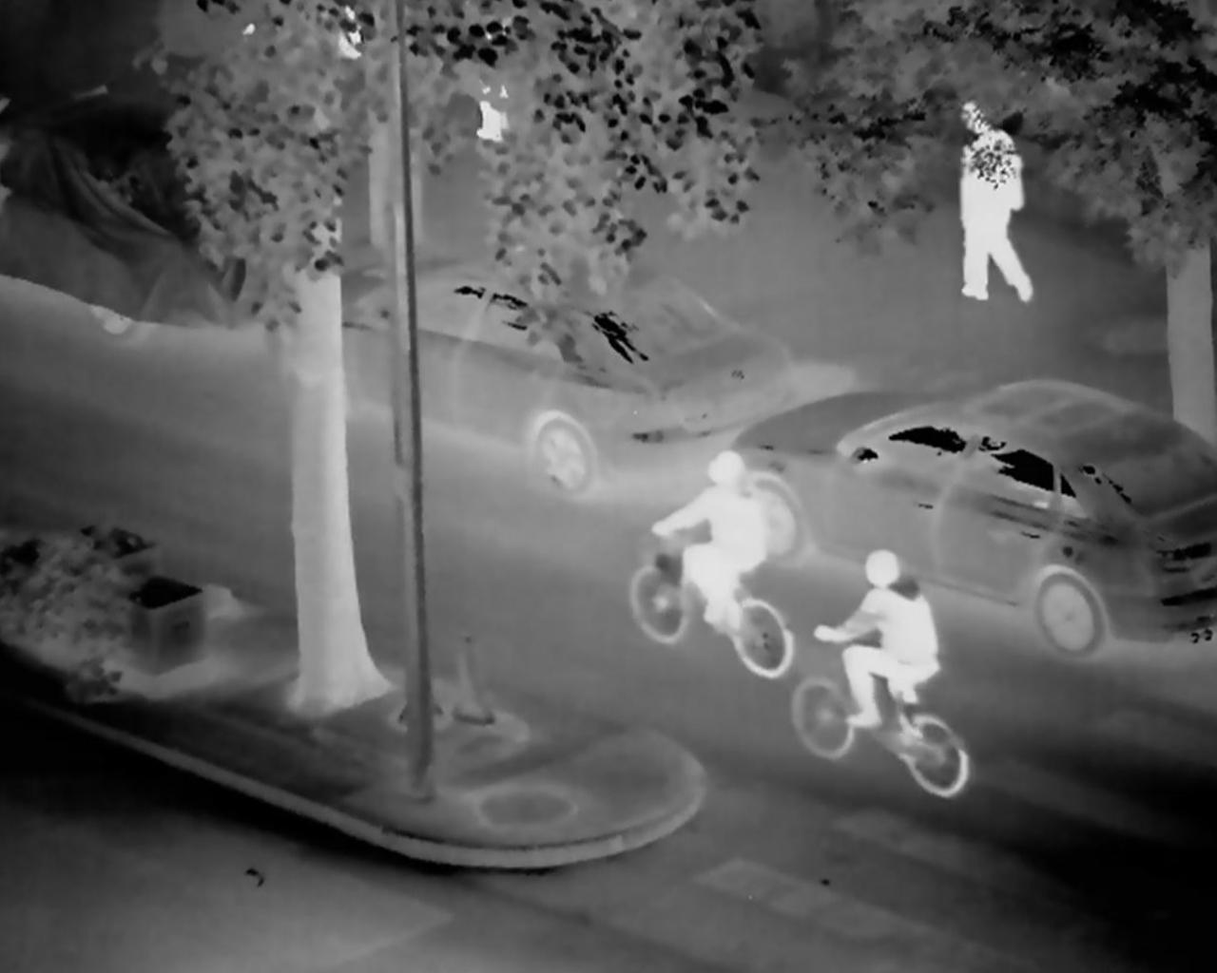person: (812, 543, 945, 766), (650, 449, 770, 645), (945, 98, 1041, 316)
